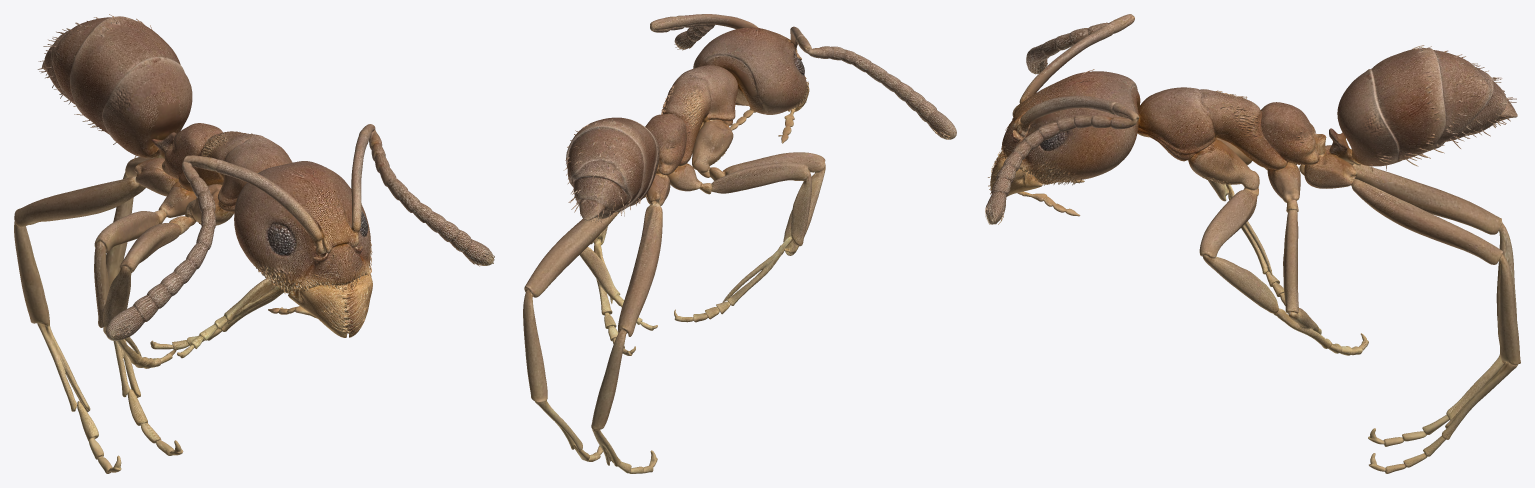
The model's file is esp2.glb.
3 views of the same model, side by side, from view 1: azimuth 30°, elevation 25°; view 2: azimuth 150°, elevation 25°; view 3: azimuth 270°, elevation 25° (orthographic). The views are drawn at different scales.
Size of the model in its own units: 1.41 by 1.61 by 1.9.
1 material, 1 textured.
